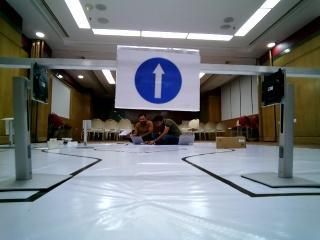straight: (118, 47, 198, 111)
